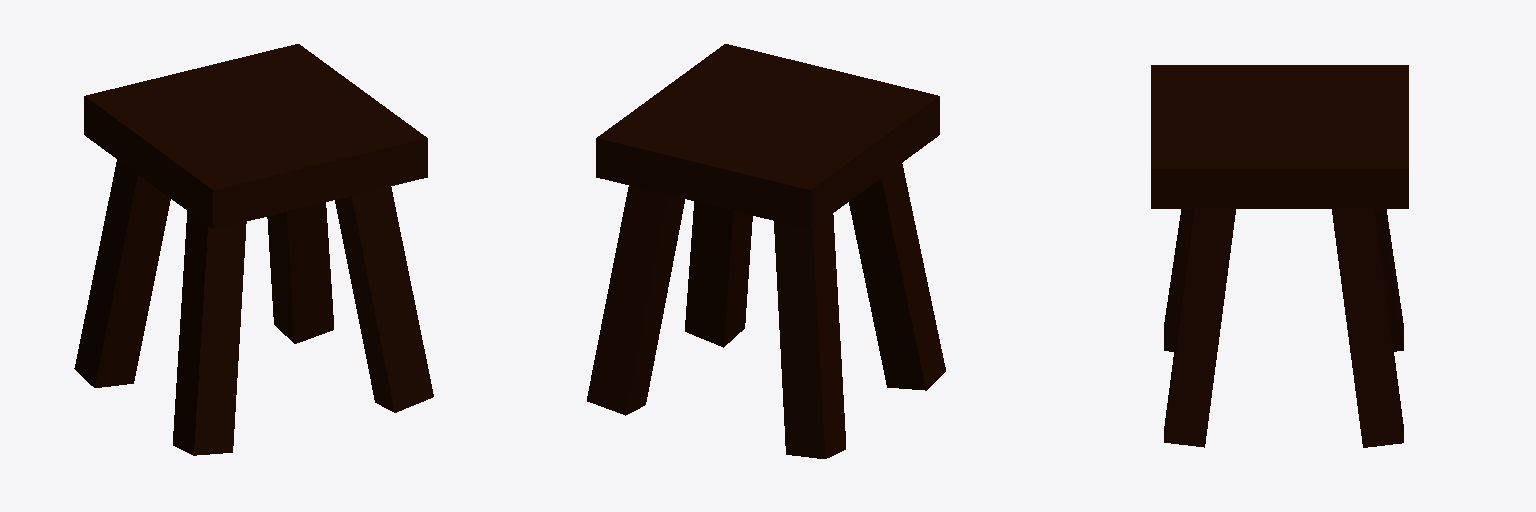
The model's file is Chair_03.obj.
The picture shows the model from 3 angles: view 1: azimuth 30°, elevation 25°; view 2: azimuth 150°, elevation 25°; view 3: azimuth 270°, elevation 25°; orthographic projection.
Parts seen in each view (by area): view 1: Chair_03_Cube.002; view 2: Chair_03_Cube.002; view 3: Chair_03_Cube.002.
Part boxes in pixels (left/top/right/bottom): Chair_03_Cube.002: left=74, top=44, right=433, bottom=455; Chair_03_Cube.002: left=587, top=44, right=945, bottom=458; Chair_03_Cube.002: left=1151, top=65, right=1408, bottom=447.
Bounding box in the file's own units: 0.7352 × 0.8083 × 0.6792.